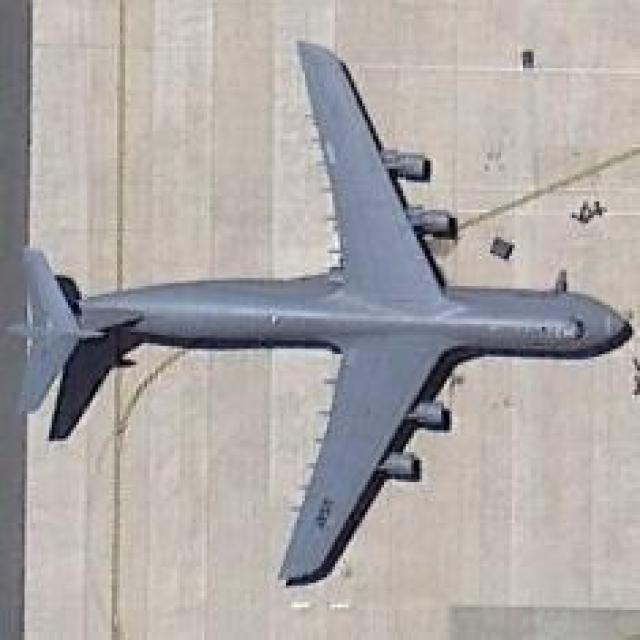C-5_TopDown: (11, 36, 634, 586)
